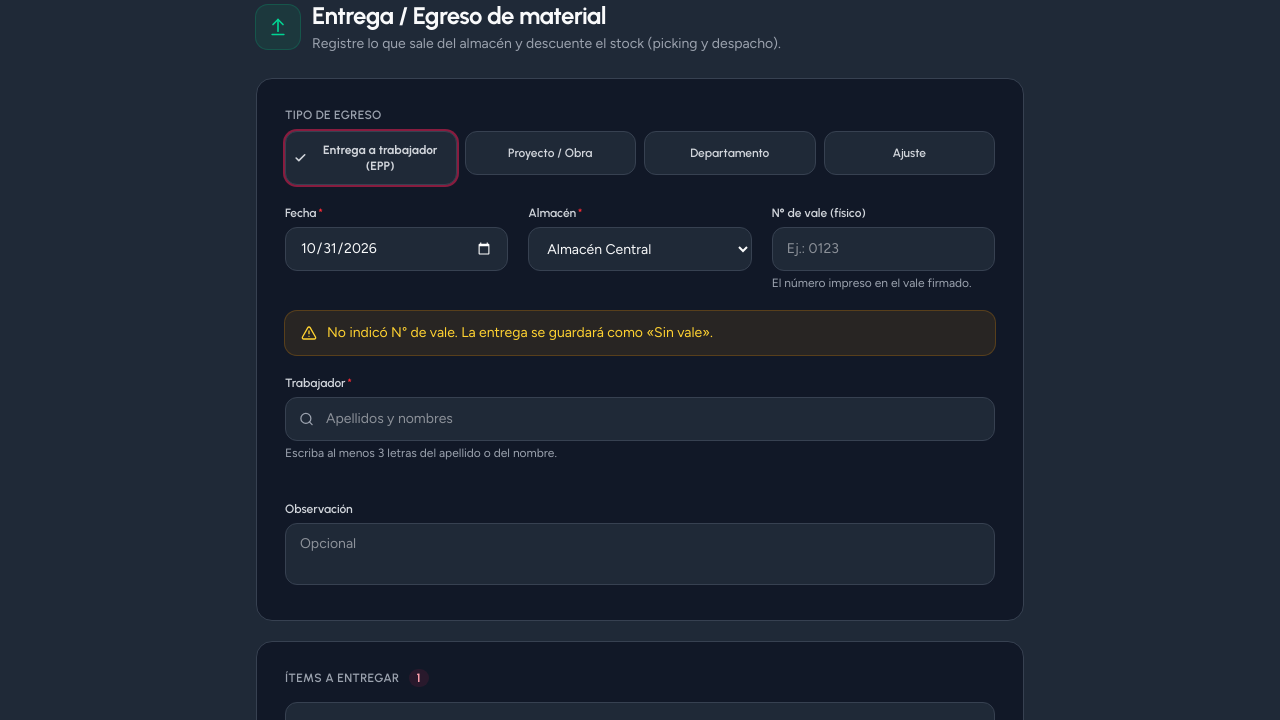
SalidaPage — entrega de EPP › sin vale se guarda como «Sin vale» (salida por lotes al empleado) y lo informa
The image size is (1280, 720).
In the dropdown labelled "Trabajador*": (640, 419) [285,397,995,441], type "Siete"
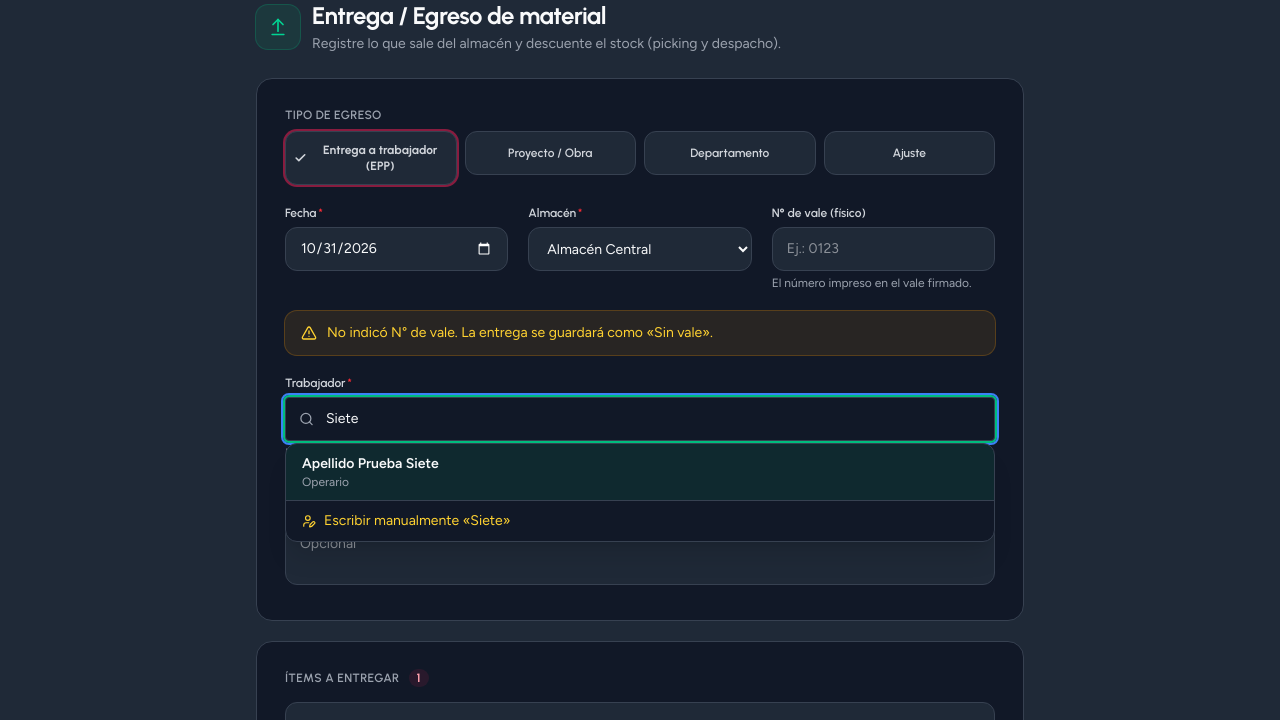
Click the option "Apellido Prueba Siete Operario": (370, 464) [286,444,994,500]
(page scrolled)
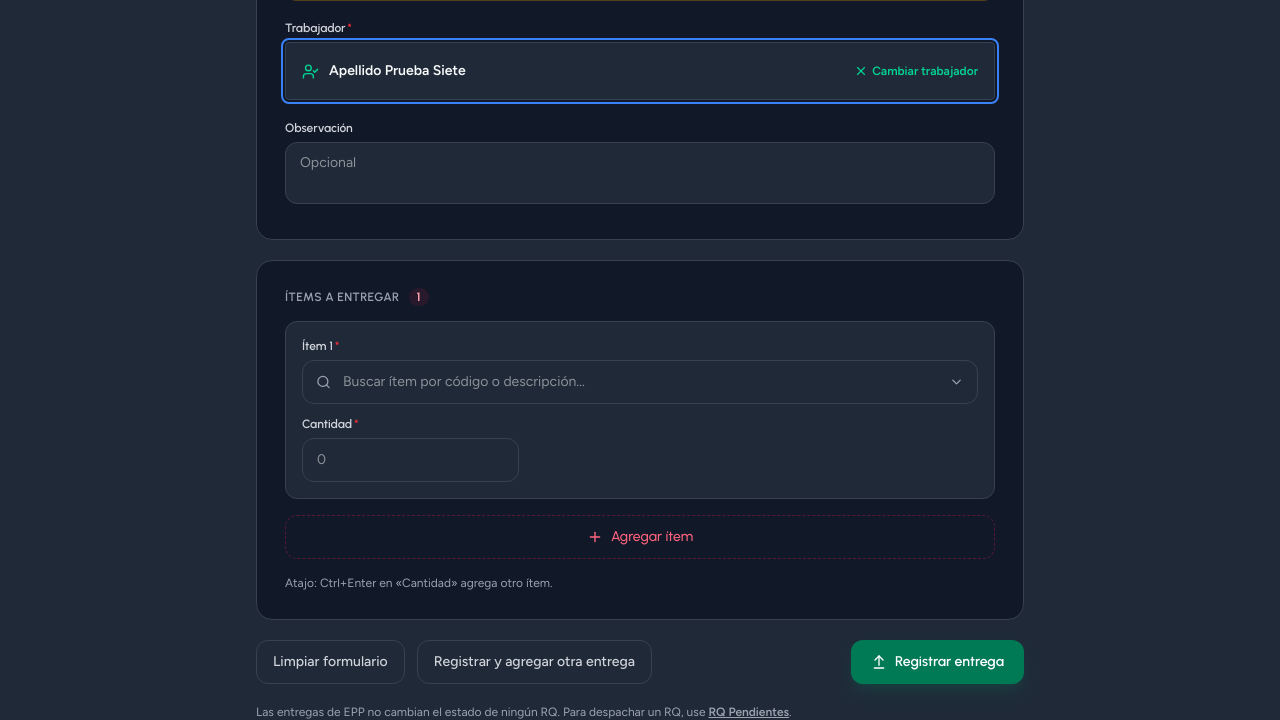
Click the dropdown labelled "Ítem 1*": (640, 382) [302,360,978,404]
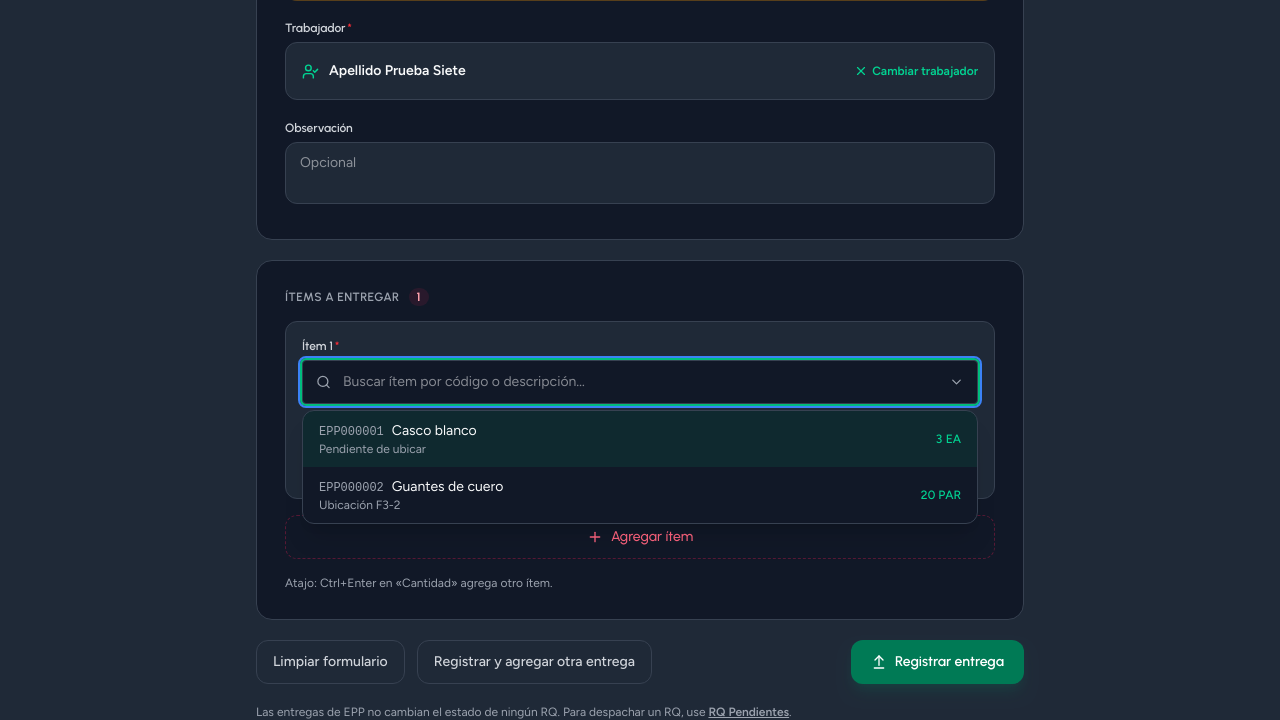
Click the option "EPP000001Casco blanco Pendiente de ubicar 3 EA": (351, 432) [303,411,977,467]
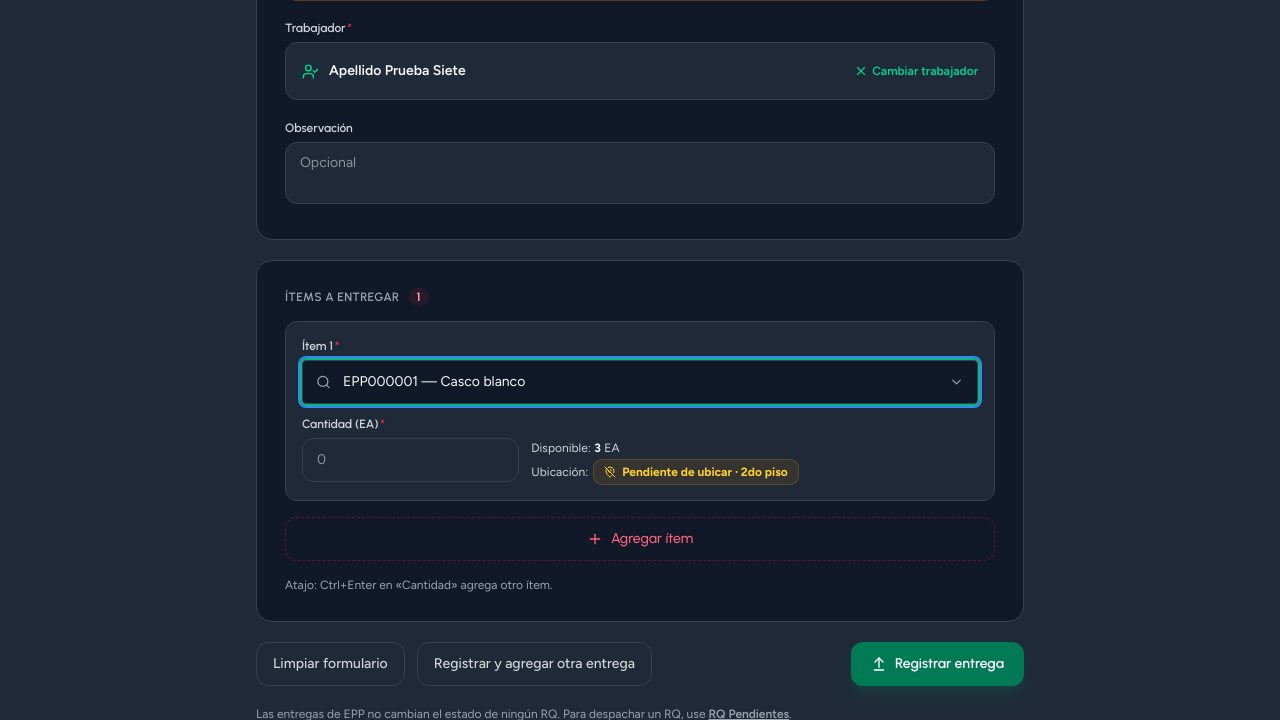
In the field labelled "Cantidad (EA)*": (411, 460) [302,438,519,482], type "1"
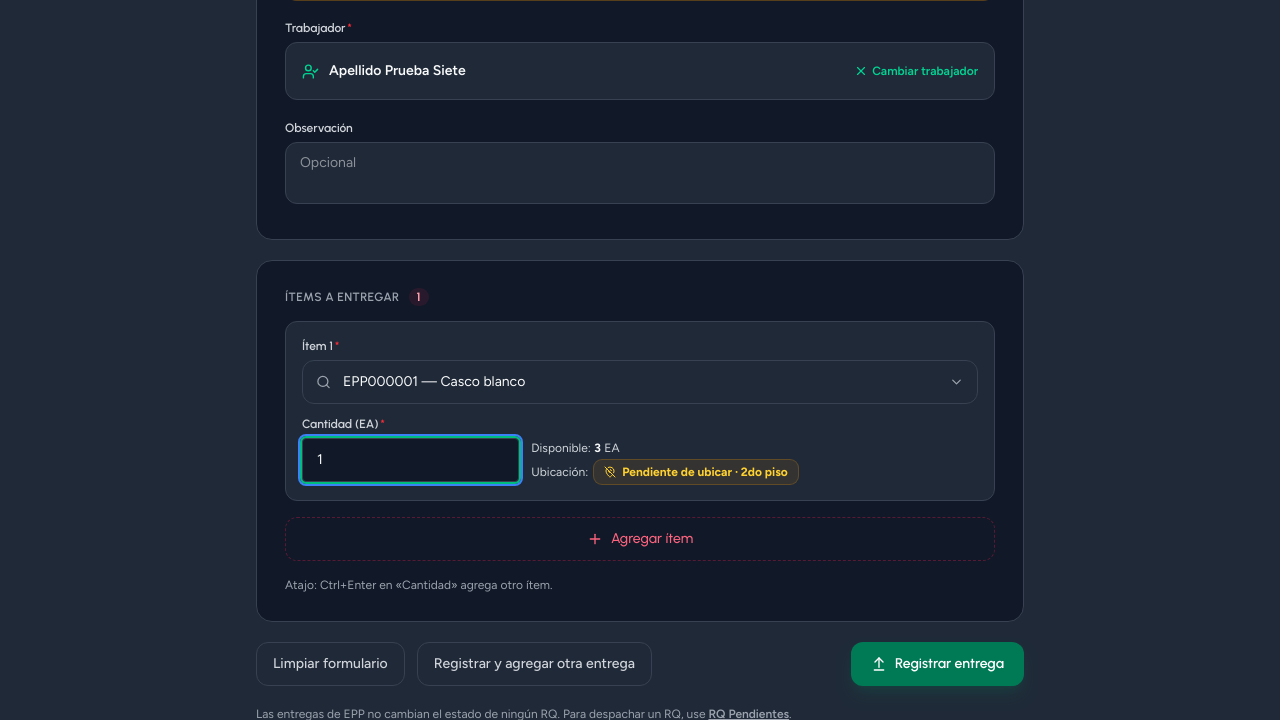
Click the button "Registrar entrega": (938, 664) [851,642,1024,686]
(page scrolled)
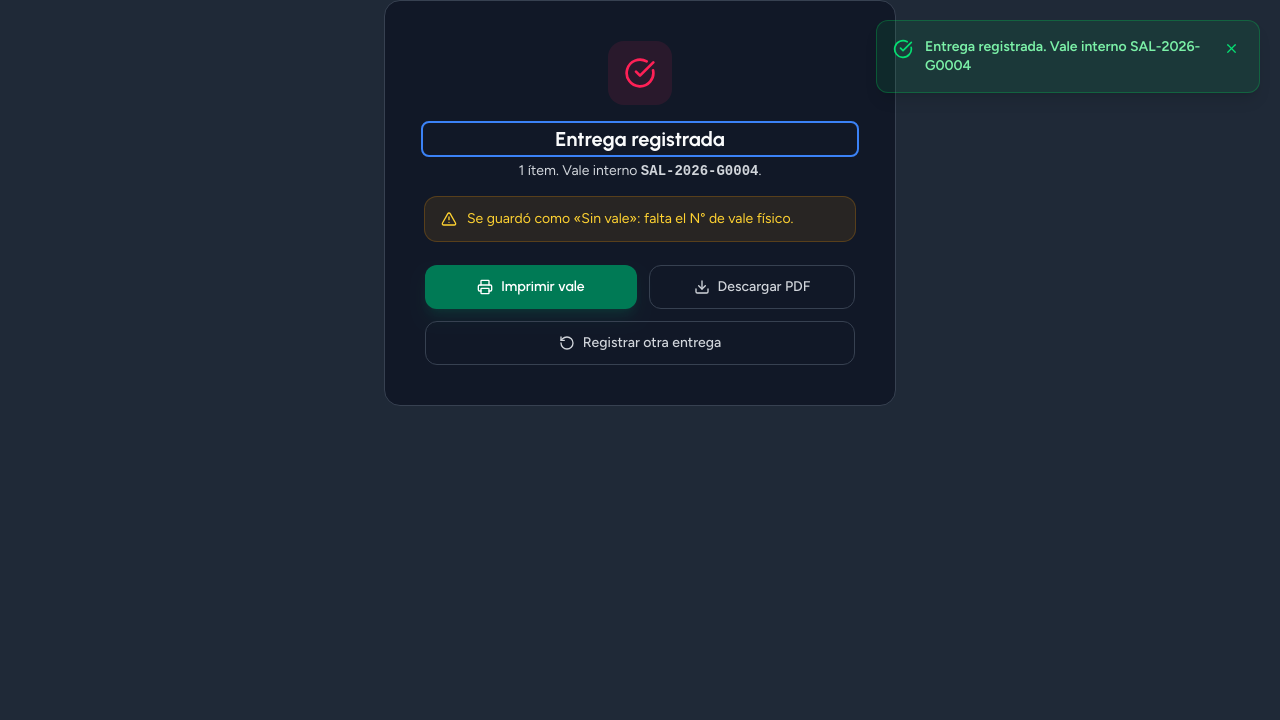
Expected: the text "Se guardó como «Sin vale»: falta el N° de vale físico." is shown, [467,209,794,229]
